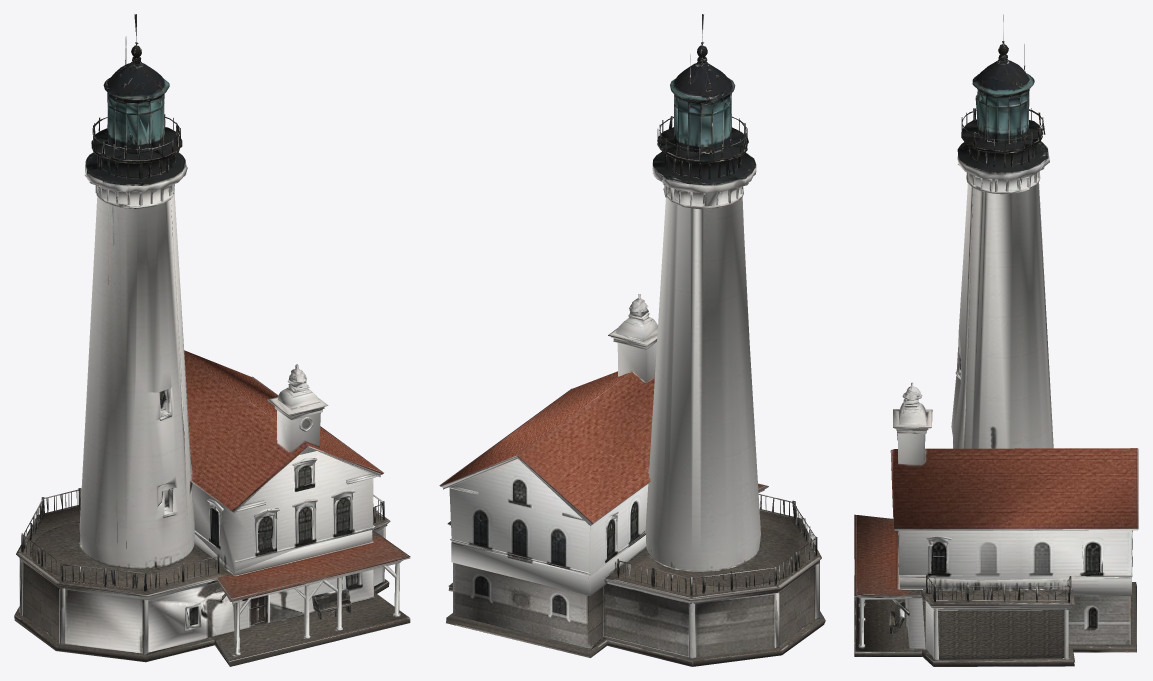
The model's file is lighthouse.glb.
3 views of the same model, side by side, from view 1: azimuth 30°, elevation 25°; view 2: azimuth 150°, elevation 25°; view 3: azimuth 270°, elevation 25° (orthographic). The views are drawn at different scales.
Size of the model in its own units: 14.18 by 25.6 by 11.89.
1 material, 1 textured.
